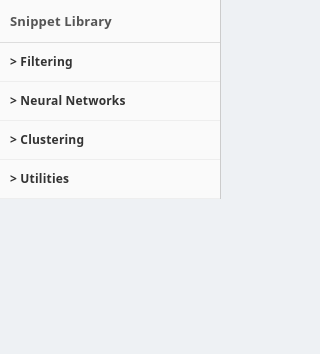
it: SnippetLibrary › expanding one category collapses the previous
Note: Expand Filtering
Step 1. Click the text "> Filtering" → (110, 63), box [0,43,220,82]
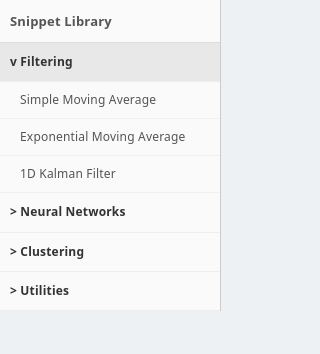
Expected: the text "Simple Moving Average" is shown, [0,82,220,119]
Note: Expand Neural Networks
Step 2. Click the text "> Neural Networks" → (110, 213), box [0,194,220,233]
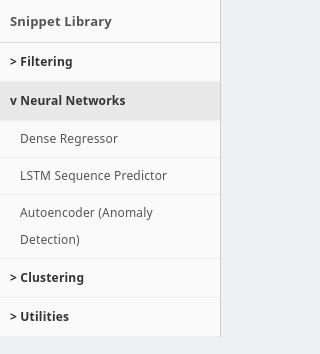
Expected: the text "Dense Regressor" is shown, [0,121,220,158]
Expected: the text "Simple Moving Average" is gone
